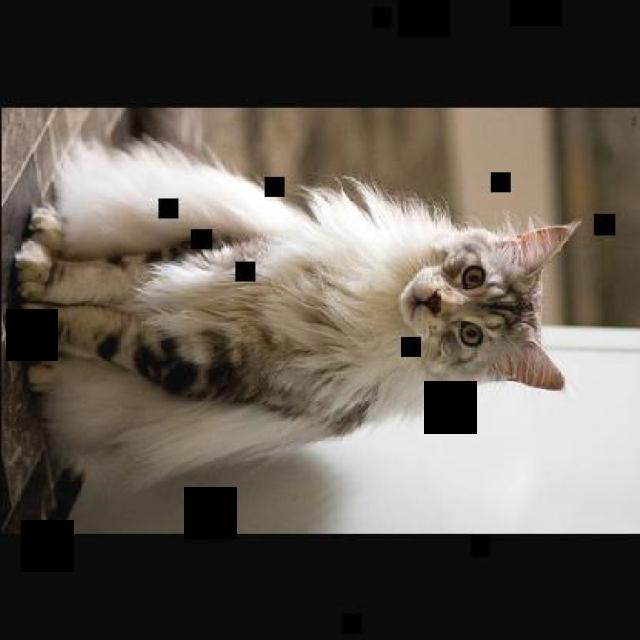unauthorized: (11, 126, 582, 494)
